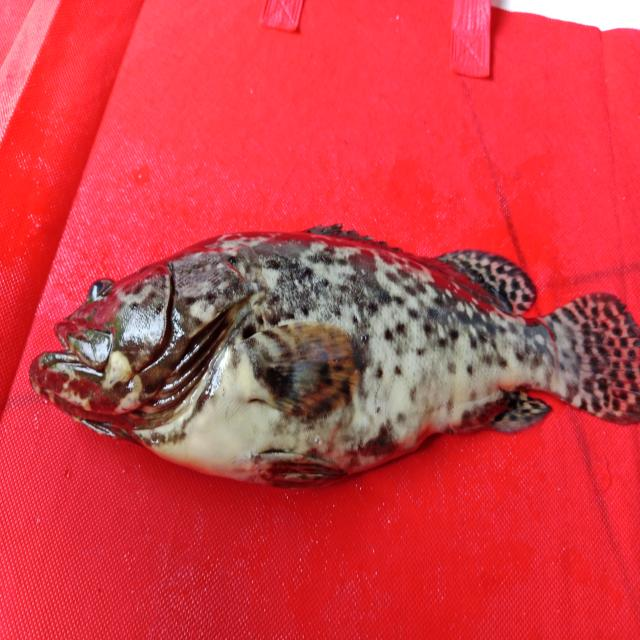ikan: (21, 207, 632, 499)
